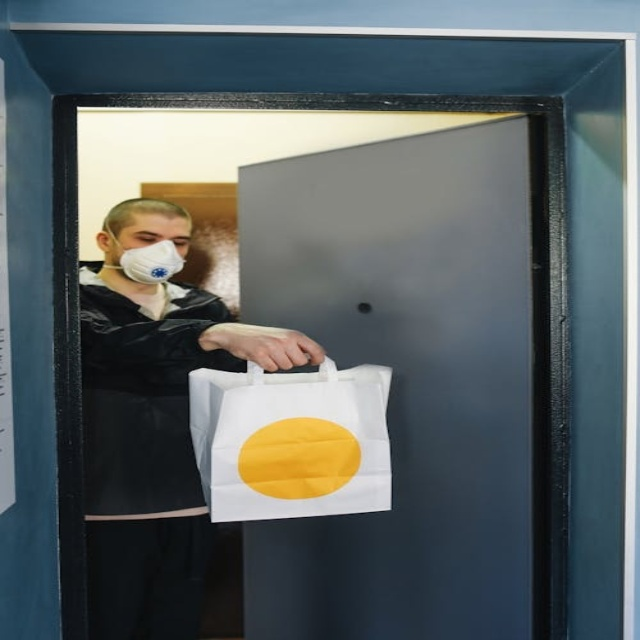Mascara: (111, 231, 187, 283)
Sin_gafas: (120, 224, 191, 247)
Sin_guantes: (206, 324, 326, 371)
